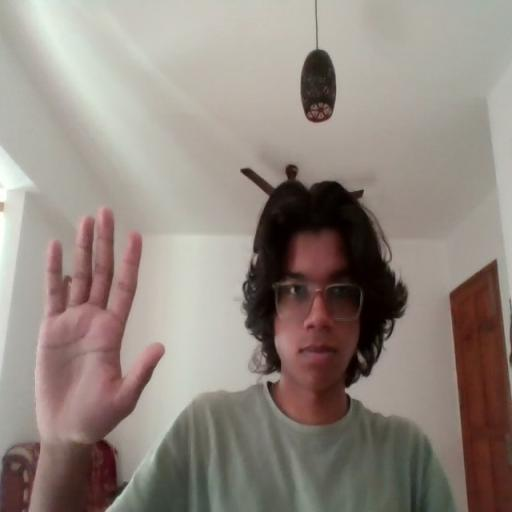Paper: (38, 212, 167, 438)
